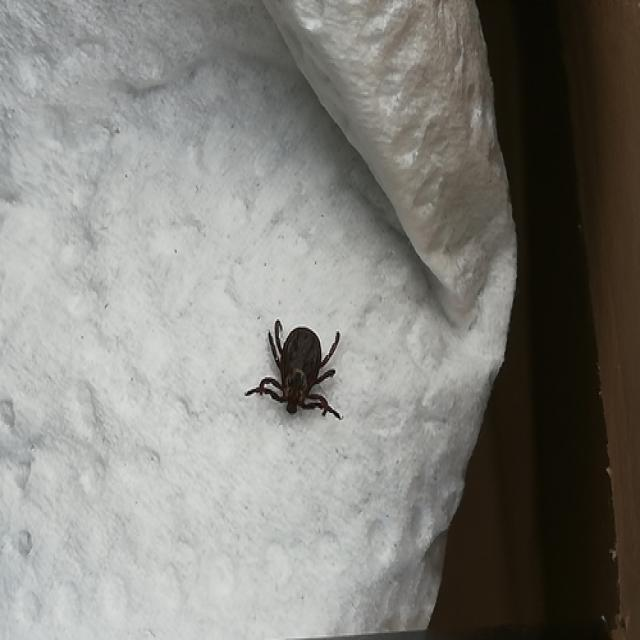Dermacentor Reticulatus-F: (243, 321, 342, 423)
